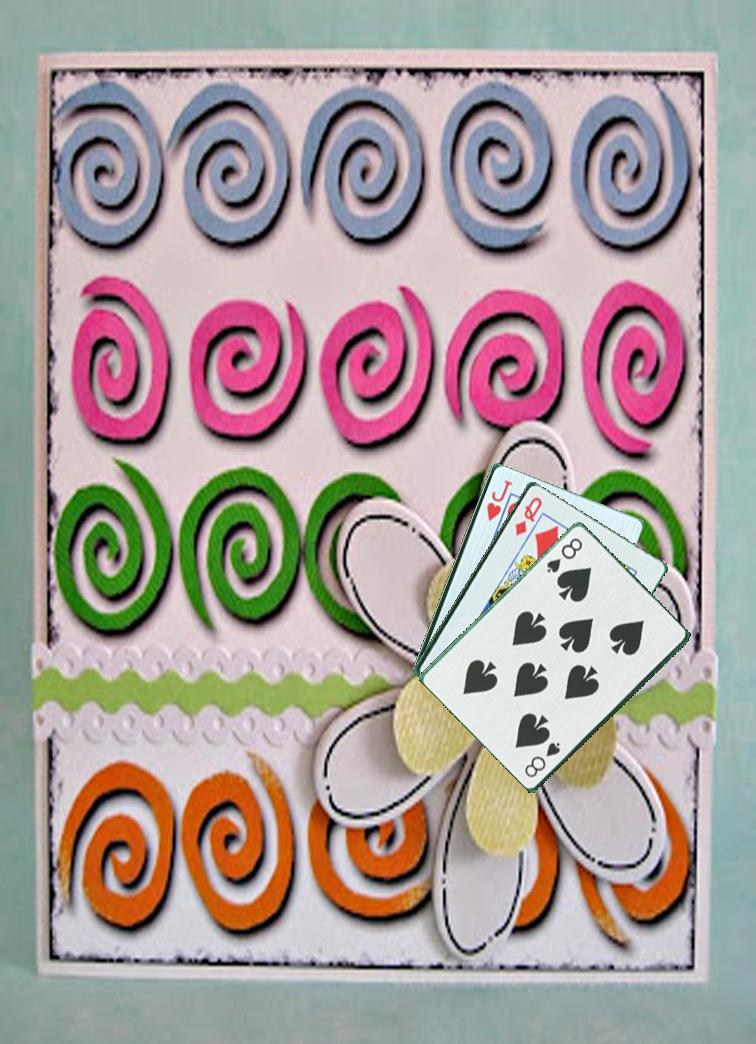8s: (543, 534, 592, 576), (521, 737, 565, 780)
jh: (483, 476, 513, 524)
qd: (511, 493, 546, 538)
